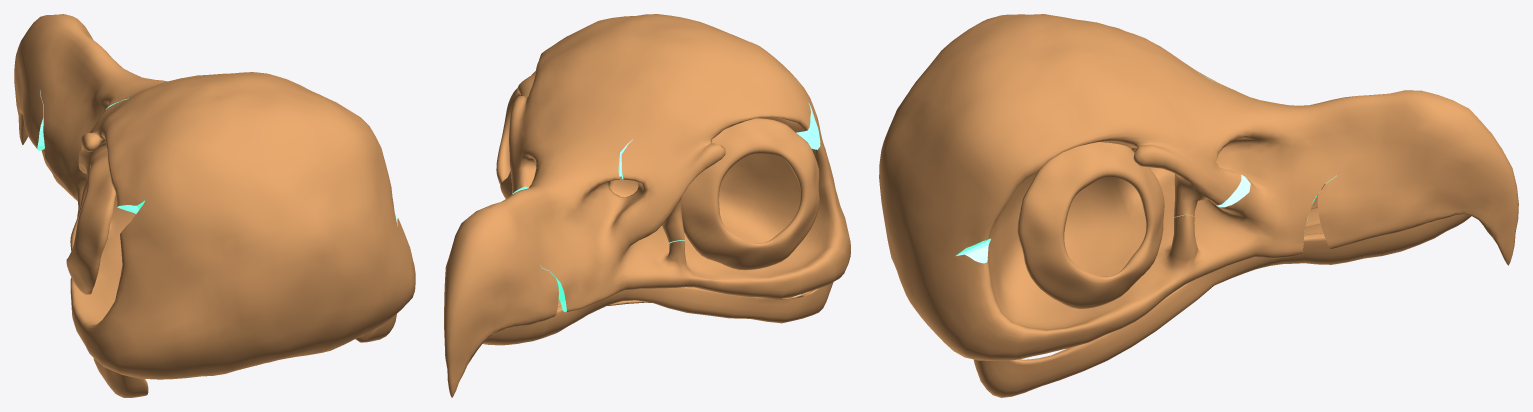
File: eagle_skull_chipped.glb
3 views of the same model, side by side, from view 1: azimuth 30°, elevation 25°; view 2: azimuth 150°, elevation 25°; view 3: azimuth 270°, elevation 25° (orthographic). The views are drawn at different scales.
Parts seen in each view (by area): view 1: eagle head state 1, eagle eye left, eagle jar; view 2: eagle head state 1, eagle eye left, eagle jar, eagle eye right; view 3: eagle head state 1, eagle eye right, eagle jar.
Boxes of the visible parts, left/top/right/bottom form: eagle head state 1: left=14, top=14, right=415, bottom=379; eagle eye left: left=66, top=151, right=115, bottom=294; eagle jar: left=41, top=148, right=396, bottom=397; eagle head state 1: left=444, top=14, right=850, bottom=397; eagle eye left: left=681, top=118, right=819, bottom=270; eagle jar: left=482, top=282, right=833, bottom=345; eagle eye right: left=496, top=71, right=535, bottom=198; eagle head state 1: left=879, top=14, right=1518, bottom=360; eagle eye right: left=1017, top=142, right=1164, bottom=308; eagle jar: left=973, top=189, right=1471, bottom=397.
Bounding box in the file's own units: 2.89 × 2.32 × 4.6.
